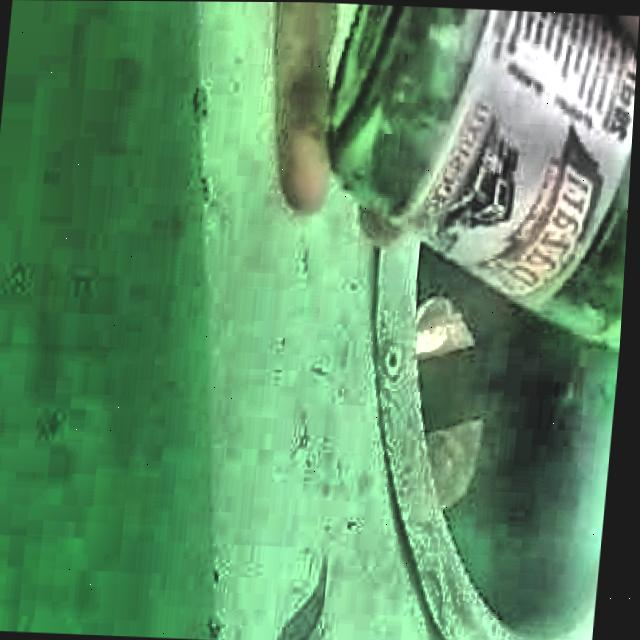glass: (330, 3, 638, 350)
